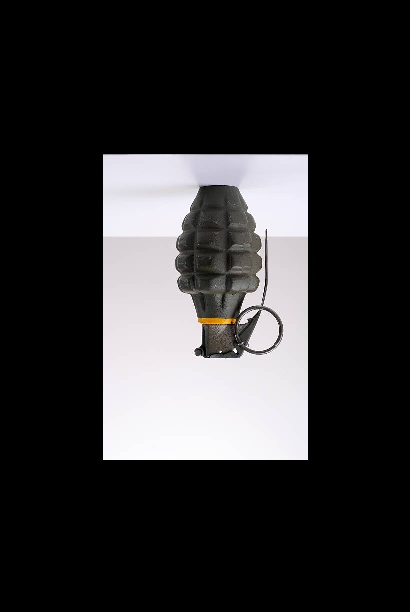e1: (173, 183, 285, 363)
